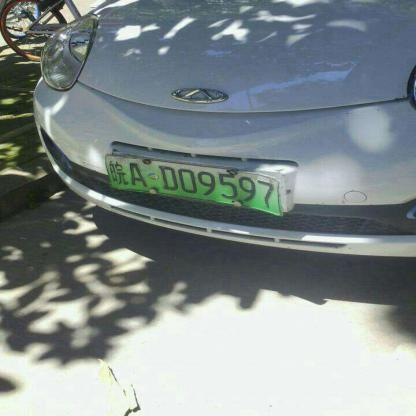lp: (107, 154, 280, 214)
